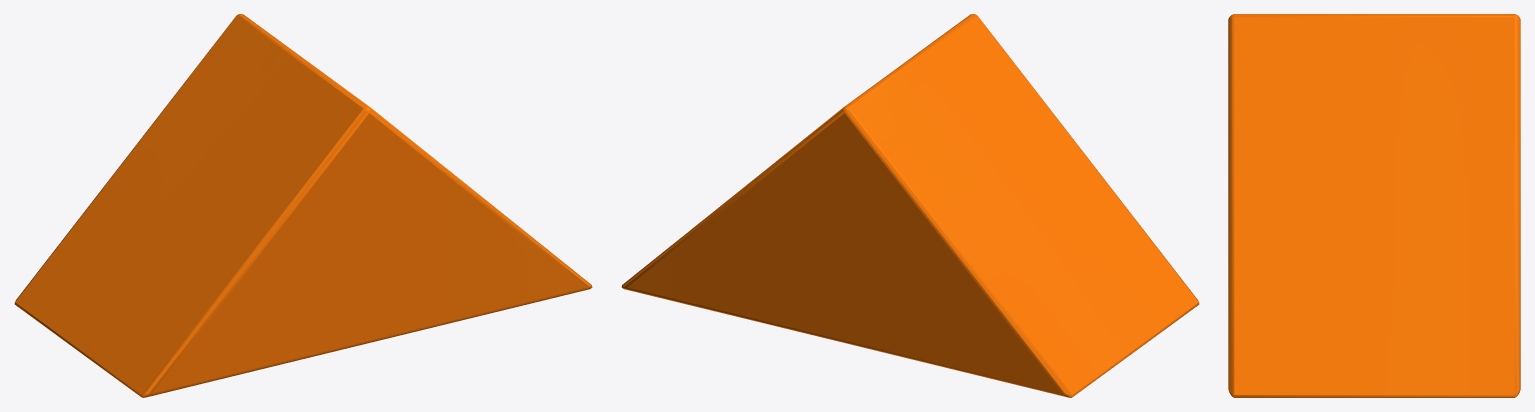
Rendered from 2SidedWedgeYellow.fbx.
3 renders of one model, left to right at view 1: azimuth 30°, elevation 25°; view 2: azimuth 150°, elevation 25°; view 3: azimuth 270°, elevation 25°, orthographic. The views are drawn at different scales.
Parts seen in each view (by area): view 1: Wedge.001; view 2: Wedge.001; view 3: Wedge.001.
Part boxes in pixels (x1,y1,x2,y2): Wedge.001: (14, 14, 592, 397); Wedge.001: (621, 14, 1199, 397); Wedge.001: (1228, 14, 1520, 397).
Size of the model in its own units: 3.95 by 1.98 by 2.
